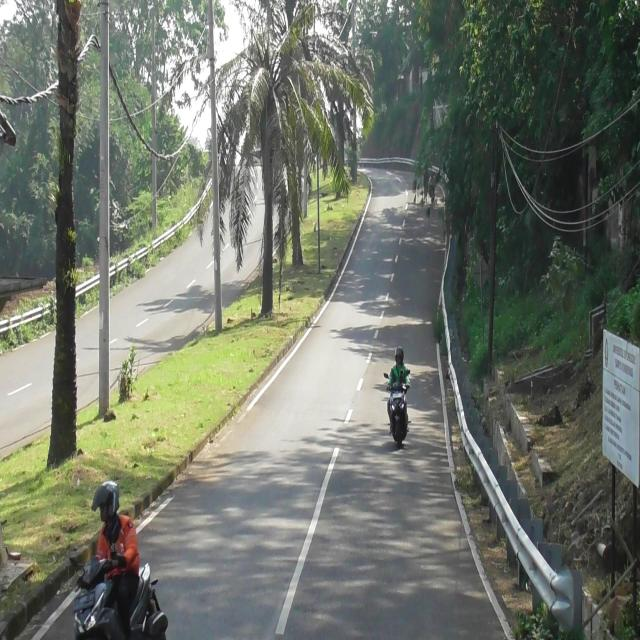motorcycle: (70, 550, 168, 640), (384, 373, 412, 450)
person: (92, 472, 141, 639), (387, 345, 410, 390)
rider_region: (73, 480, 169, 640), (386, 344, 412, 450)
